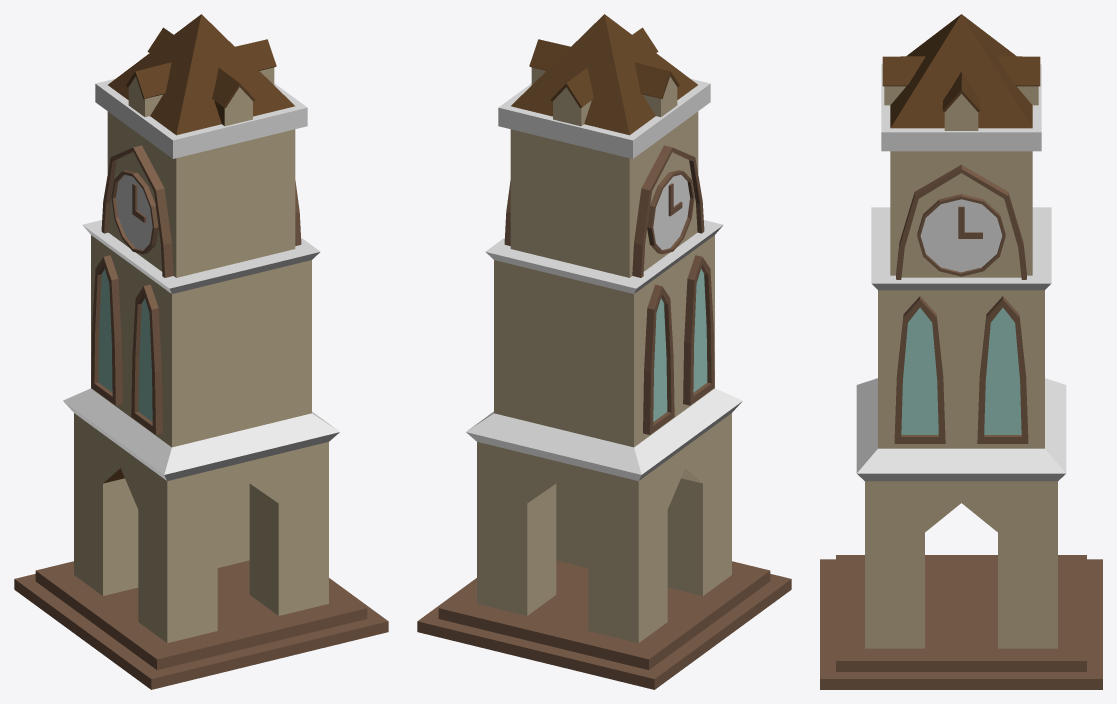
The model's file is 3D Clock Tower 1.fbx.
The picture shows the model from 3 angles, left to right: view 1: azimuth 30°, elevation 25°; view 2: azimuth 150°, elevation 25°; view 3: azimuth 270°, elevation 25°; orthographic projection. The views are drawn at different scales.
Parts seen in each view (by area): view 1: pCube5, pCube6, pCube4, pCylinder12, pCylinder11, pCylinder1, pCylinder5; view 2: pCube5, pCube6, pCube4, pCylinder11, pCylinder12, pCylinder1, pCylinder5; view 3: pCube5, pCube6, pCylinder9, pCylinder10, pCylinder1, pCylinder5, pCube4.
Part boxes in pixels (x1,y1,x2,y2): pCube5: (63, 14, 339, 643); pCube6: (14, 560, 388, 689); pCube4: (126, 27, 276, 126); pCylinder12: (131, 284, 162, 434); pCylinder11: (91, 255, 122, 405); pCylinder1: (101, 145, 301, 277); pCylinder5: (111, 170, 158, 254); pCube5: (466, 14, 742, 643); pCube6: (417, 560, 791, 689); pCube4: (529, 27, 679, 126); pCylinder11: (643, 284, 674, 434); pCylinder12: (683, 255, 714, 405); pCylinder1: (504, 145, 704, 277); pCylinder5: (647, 170, 694, 254); pCube5: (856, 14, 1066, 648); pCube6: (820, 555, 1102, 689); pCylinder9: (894, 296, 945, 443); pCylinder10: (977, 296, 1028, 443); pCylinder1: (896, 165, 1026, 279); pCylinder5: (917, 194, 1005, 276); pCube4: (882, 56, 1040, 130).
Size of the model in its own units: 8.44 by 20.29 by 8.44.
